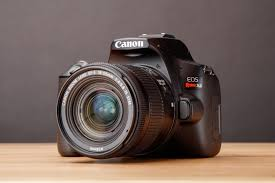camera: (56, 36, 220, 159)
